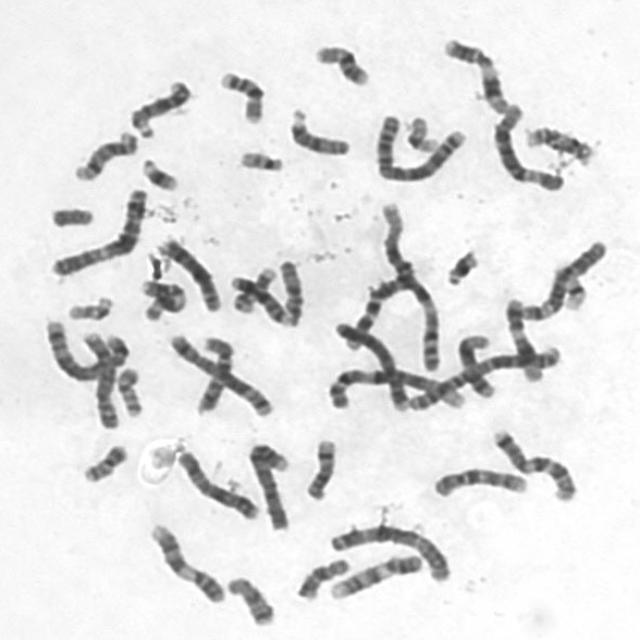A1: (373, 194, 444, 373), (321, 360, 468, 412)
A2: (398, 340, 565, 413), (368, 107, 470, 184)
A3: (44, 181, 150, 278), (322, 518, 454, 584)
B4: (328, 314, 414, 413), (240, 436, 294, 531)
B5: (162, 328, 276, 419), (38, 313, 133, 383)
C10: (190, 330, 237, 416), (427, 461, 531, 499)
C11: (435, 31, 513, 115), (134, 274, 188, 322)
C12: (499, 292, 544, 384), (451, 328, 498, 399)
C6: (512, 235, 610, 322), (487, 98, 567, 193)
C7: (336, 263, 419, 353), (487, 423, 579, 504)
C8: (151, 231, 223, 313), (74, 325, 121, 430)
C9: (142, 517, 228, 605), (321, 548, 425, 602)
D13: (122, 73, 194, 139), (230, 274, 294, 326)
D14: (66, 125, 140, 183), (300, 432, 338, 503)
D15: (283, 101, 353, 157), (271, 254, 306, 327)
E16: (212, 65, 267, 125), (308, 38, 372, 88)
E17: (226, 261, 278, 314), (525, 126, 595, 164)
E18: (220, 570, 276, 628), (290, 552, 352, 602)
F19: (547, 258, 589, 312), (398, 109, 442, 154)
F20: (76, 437, 131, 485), (110, 361, 145, 419)
G21: (135, 151, 182, 193), (439, 242, 481, 288)
G22: (60, 290, 115, 322), (232, 144, 286, 174)
X: (170, 445, 261, 521)
Y: (44, 200, 96, 229)
